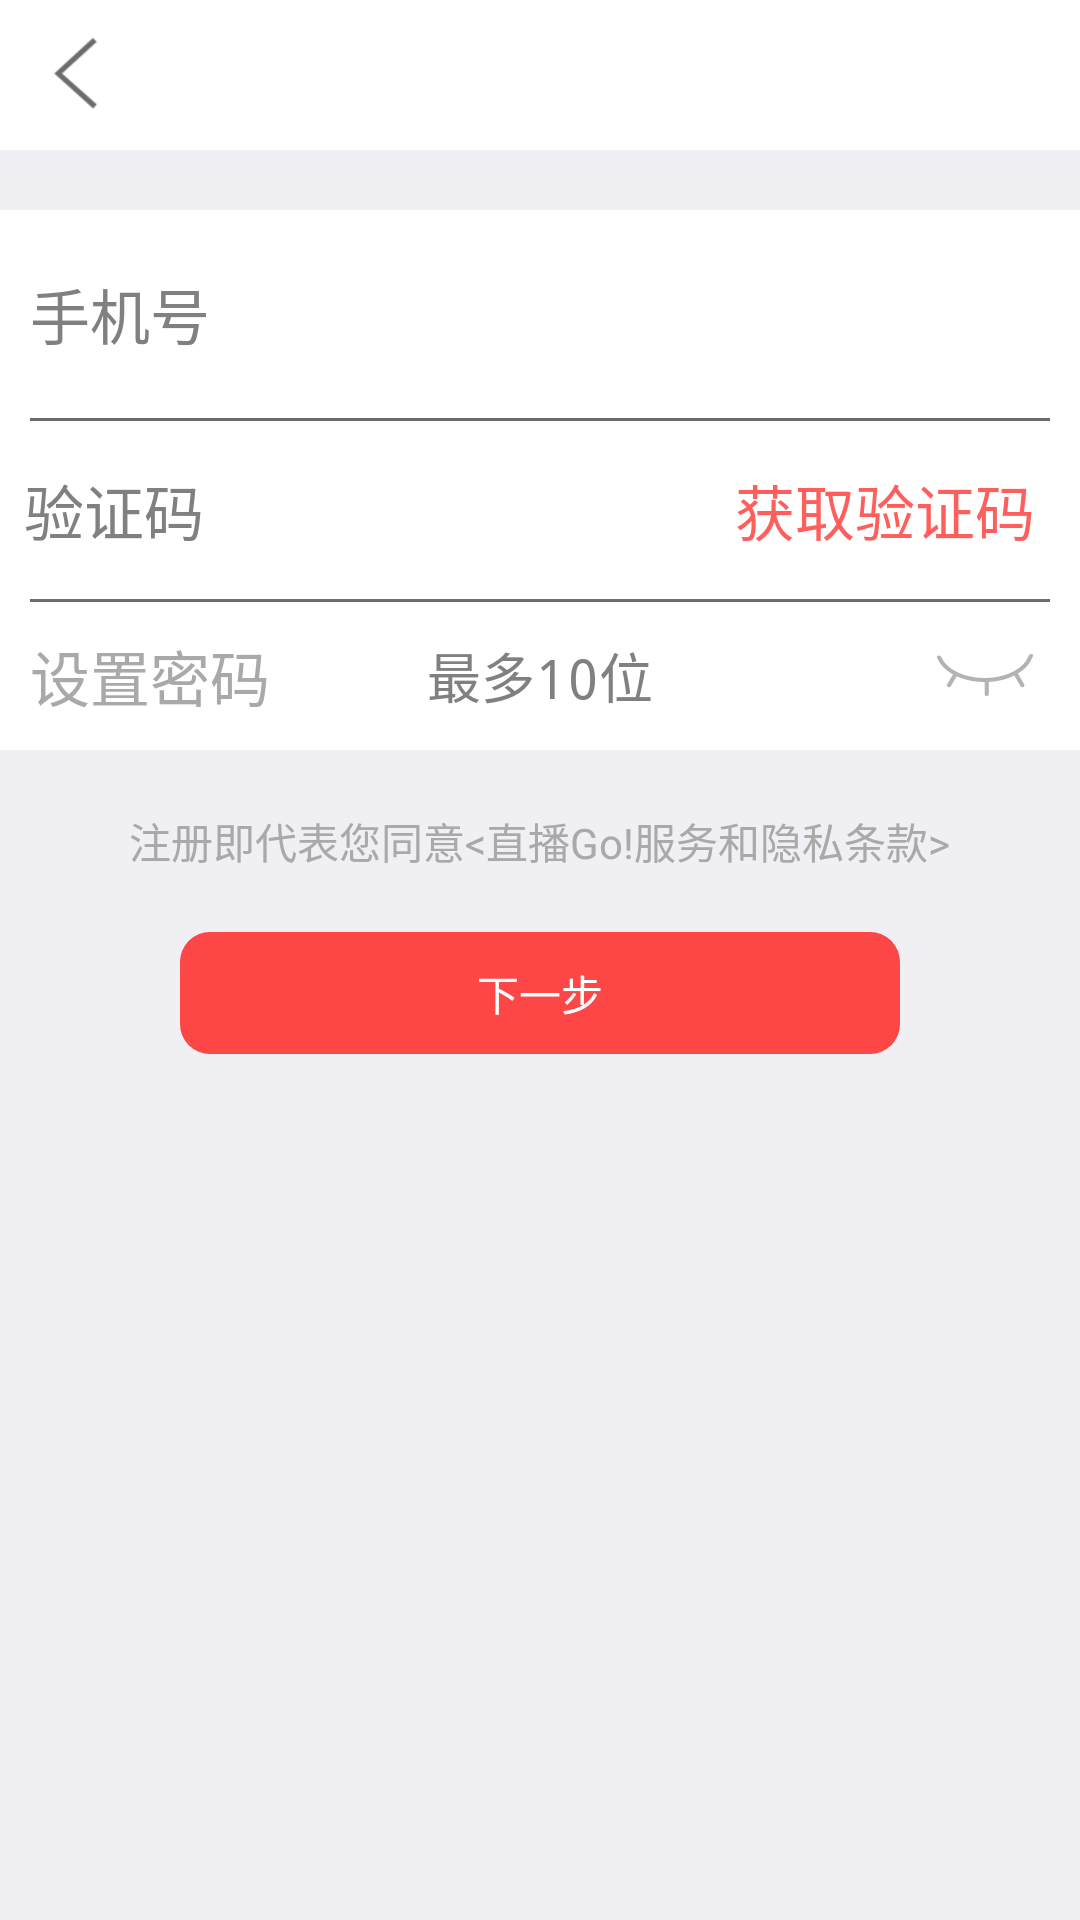

Named icons in this screenshot (1080px×1920px) and their centers, (x=x, y=y):
login back: (x=75, y=73)
login eye close: (x=985, y=675)
